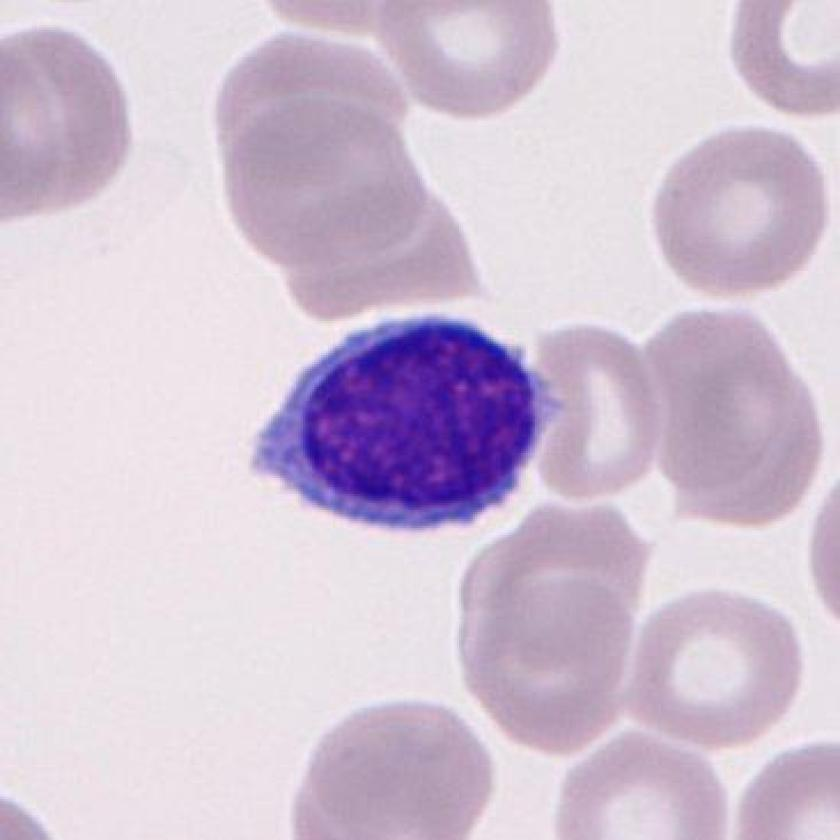lymphocyte: (237, 297, 575, 559)
